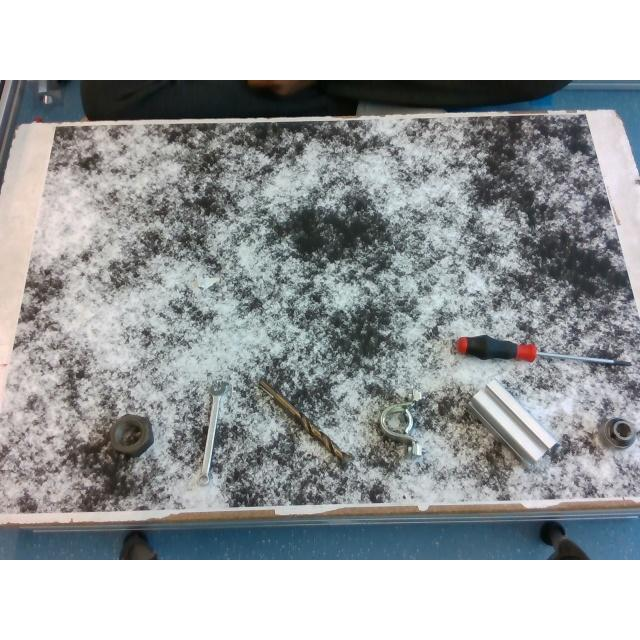Bearing2: (597, 417, 637, 447)
Drill: (257, 379, 351, 461)
Housing: (378, 389, 427, 458)
M30: (109, 414, 153, 456)
S40_40_G: (469, 381, 557, 461)
